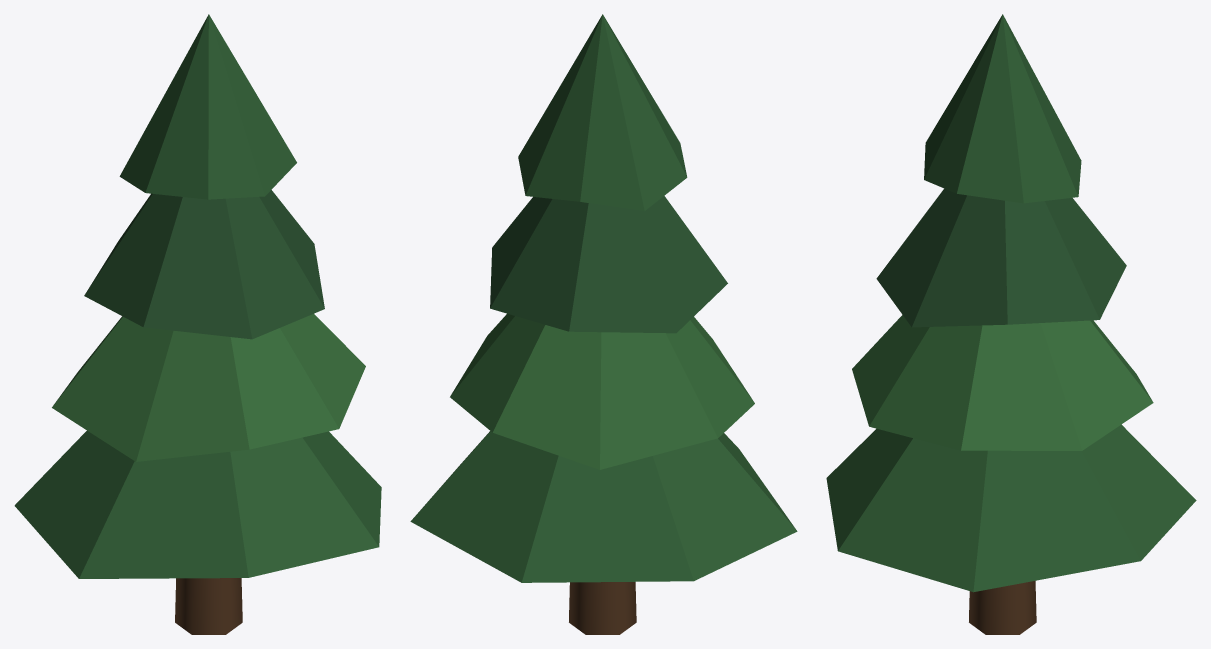
The model's file is tree_pine_3.glb.
The picture shows the model from 3 angles, left to right: view 1: azimuth 30°, elevation 25°; view 2: azimuth 150°, elevation 25°; view 3: azimuth 270°, elevation 25°; orthographic projection.
Parts seen in each view (by area): view 1: crown, trunk; view 2: crown, trunk; view 3: crown, trunk.
Part boxes in pixels (x1,y1,x2,y2): crown: (14,14,381,578); trunk: (175,578,242,634); crown: (410,14,797,582); trunk: (569,582,636,634); crown: (826,14,1196,592); trunk: (969,580,1036,634).
Bounding box in the file's own units: 1.53 × 2.77 × 1.53.
